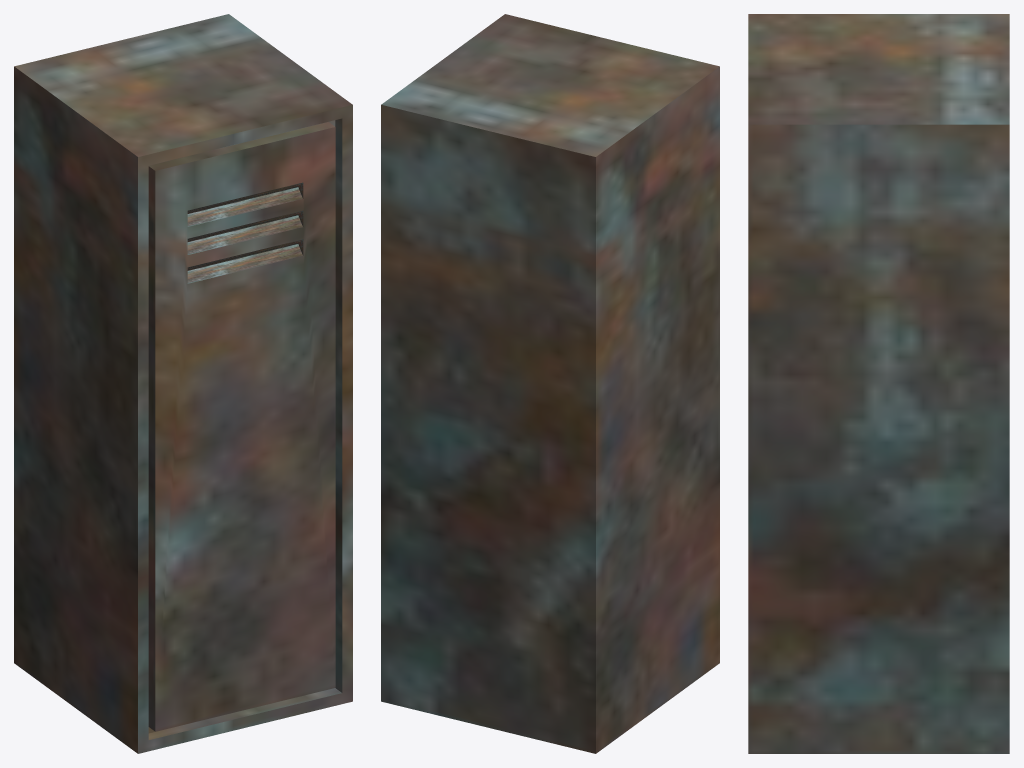
File: Armario.fbx
3 renders of one model, left to right at view 1: azimuth 30°, elevation 25°; view 2: azimuth 150°, elevation 25°; view 3: azimuth 270°, elevation 25°, orthographic. The views are drawn at different scales.
Parts seen in each view (by area): view 1: Cube; view 2: Cube; view 3: Cube.
Part boxes in pixels (x1,y1,x2,y2): Cube: (14,14,352,753); Cube: (381,14,719,753); Cube: (748,14,1009,753).
Size of the model in its own units: 2 by 5.31 by 2.
Materials: 1 (1 with a texture image).
